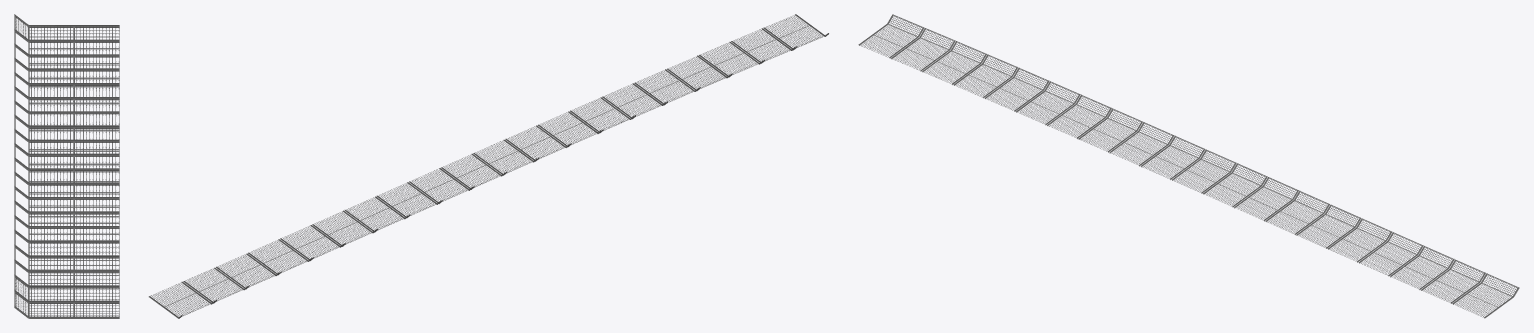
File: _1WALL_16_SUB1.obj
3 views of the same model, side by side, from view 1: azimuth 90°, elevation 25°; view 2: azimuth 210°, elevation 25°; view 3: azimuth 330°, elevation 25° (orthographic). The views are drawn at different scales.
Parts seen in each view (by area): view 1: _1WALL_16_SUB1_Scene.282; view 2: _1WALL_16_SUB1_Scene.282; view 3: _1WALL_16_SUB1_Scene.282.
Boxes of the visible parts, <box> form: _1WALL_16_SUB1_Scene.282: <box>14,14,119,318</box>; _1WALL_16_SUB1_Scene.282: <box>148,14,828,318</box>; _1WALL_16_SUB1_Scene.282: <box>858,14,1519,318</box>.
Size of the model in its own units: 3964 by 773 by 365.
